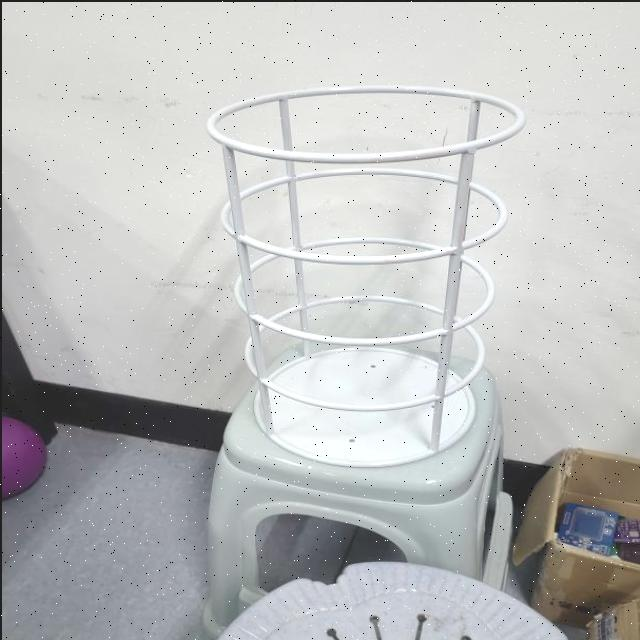P: (0, 411, 50, 499)
S: (204, 81, 532, 472)
